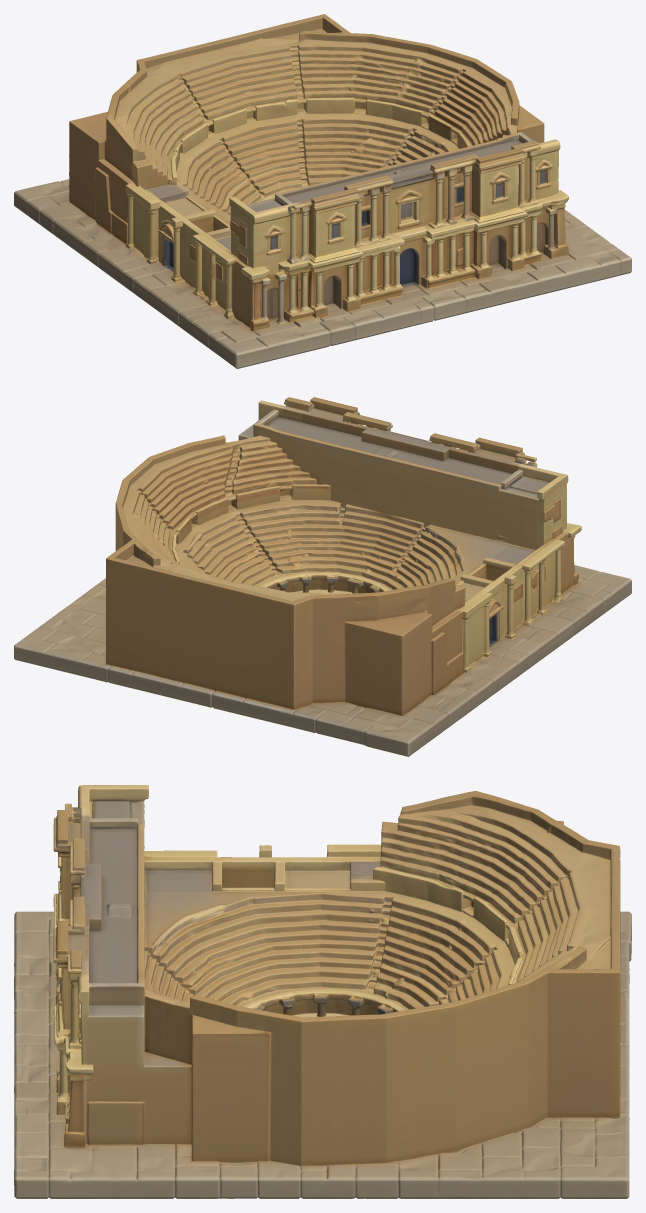
The model's file is tripo_convert_677e2c2a-11a3-43c2-82e5-903786d43ae0.fbx.
3 views of the same model, one above another, from view 1: azimuth 30°, elevation 25°; view 2: azimuth 150°, elevation 25°; view 3: azimuth 270°, elevation 25° (orthographic). The views are drawn at different scales.
Visible parts, largest first — view 1: tripo_node_677e2c2a; view 2: tripo_node_677e2c2a; view 3: tripo_node_677e2c2a.
Part boxes in pixels (bbox=[...]): tripo_node_677e2c2a: bbox=[14, 14, 631, 368]; tripo_node_677e2c2a: bbox=[14, 397, 631, 756]; tripo_node_677e2c2a: bbox=[14, 785, 631, 1198].
Bounding box in the file's own units: 1 × 0.3249 × 0.9757.
